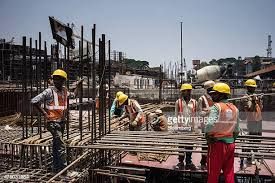arm: (29, 86, 52, 119), (201, 103, 220, 134), (130, 97, 145, 126), (63, 91, 72, 122), (107, 98, 118, 117)
face: (52, 75, 66, 88), (180, 88, 190, 97)
glove: (46, 108, 58, 119), (130, 118, 139, 127)
helmet: (211, 80, 232, 95), (50, 66, 68, 80), (113, 89, 128, 103), (177, 80, 192, 91), (243, 77, 257, 88)
human: (30, 65, 75, 172), (200, 78, 241, 182), (239, 76, 265, 136), (109, 88, 145, 129), (172, 78, 199, 129)
leg: (48, 120, 66, 172), (204, 139, 224, 182), (223, 140, 236, 182)
noglove: (47, 108, 59, 119)
vest: (207, 100, 238, 139), (42, 85, 70, 121), (241, 92, 263, 130), (175, 96, 195, 125), (117, 98, 141, 121)
